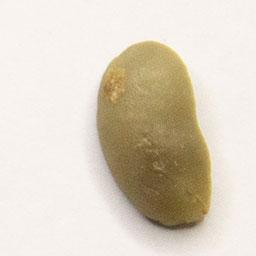longberry: (93, 37, 215, 233)
